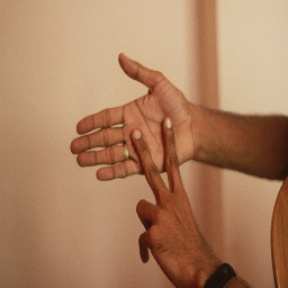N: (68, 52, 219, 234)
